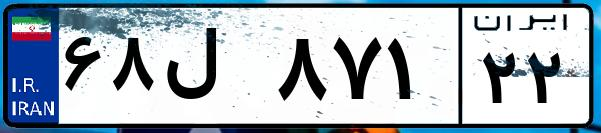1: (385, 28, 445, 110)
2: (475, 38, 525, 113), (525, 38, 570, 115)
6: (57, 26, 110, 100)
7: (330, 28, 385, 110)
8: (270, 28, 330, 110), (110, 28, 158, 98)
ل: (158, 20, 270, 120)
